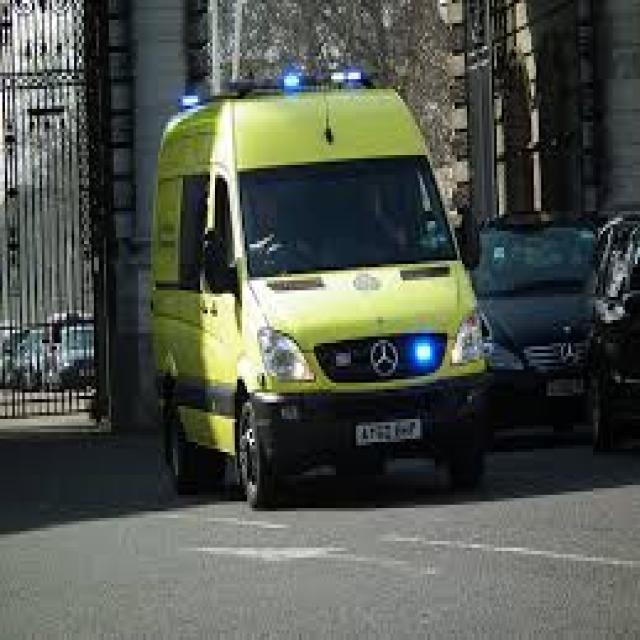emergency lights: (165, 67, 382, 111), (407, 338, 438, 377)
